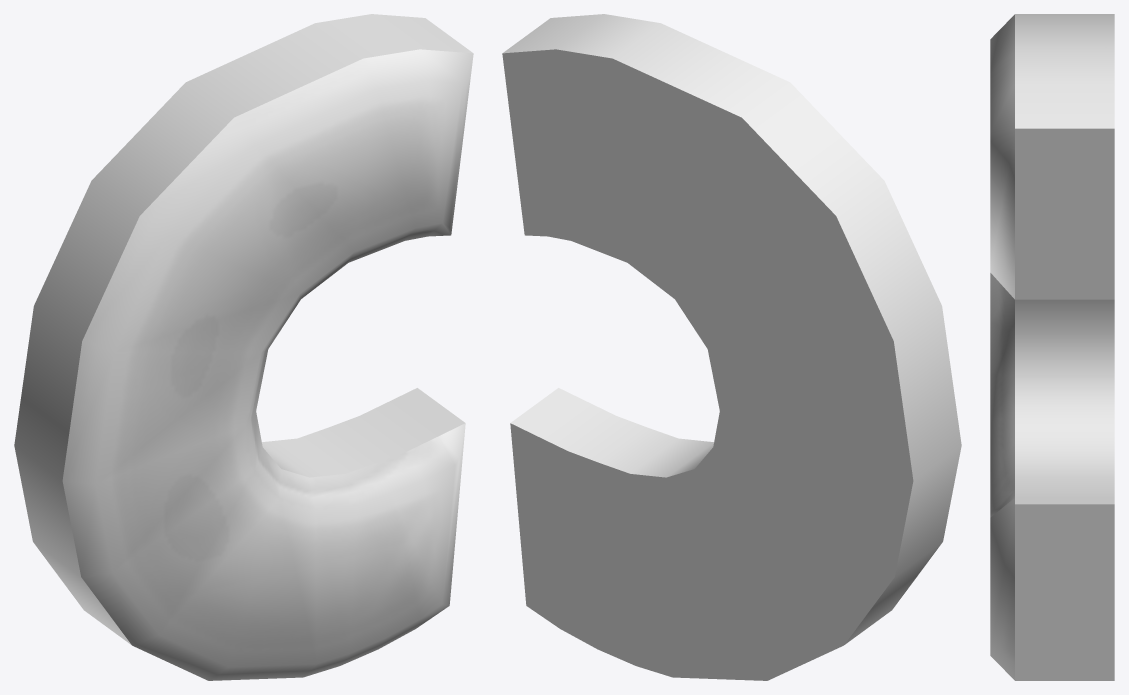
File: LettersStylized01_C.FBX
3 views of the same model, side by side, from view 1: azimuth 30°, elevation 25°; view 2: azimuth 150°, elevation 25°; view 3: azimuth 270°, elevation 25° (orthographic). The views are drawn at different scales.
Parts seen in each view (by area): view 1: LettersStylized01_C; view 2: LettersStylized01_C; view 3: LettersStylized01_C.
Boxes of the visible parts, left/top/right/bottom form: LettersStylized01_C: left=14, top=14, right=473, bottom=680; LettersStylized01_C: left=502, top=14, right=961, bottom=680; LettersStylized01_C: left=990, top=14, right=1114, bottom=680.
Size of what is drawn, in the model's own units: 0.3342 by 0.4695 by 0.085.
